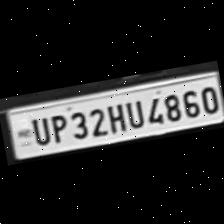0: (196, 80, 220, 114)
2: (84, 102, 107, 136)
3: (64, 105, 88, 140)
4: (140, 90, 164, 126)
6: (176, 84, 200, 118)
8: (158, 89, 182, 123)
H: (102, 98, 127, 133)
P: (44, 108, 68, 144)
U: (26, 112, 52, 146), (122, 94, 144, 129)
